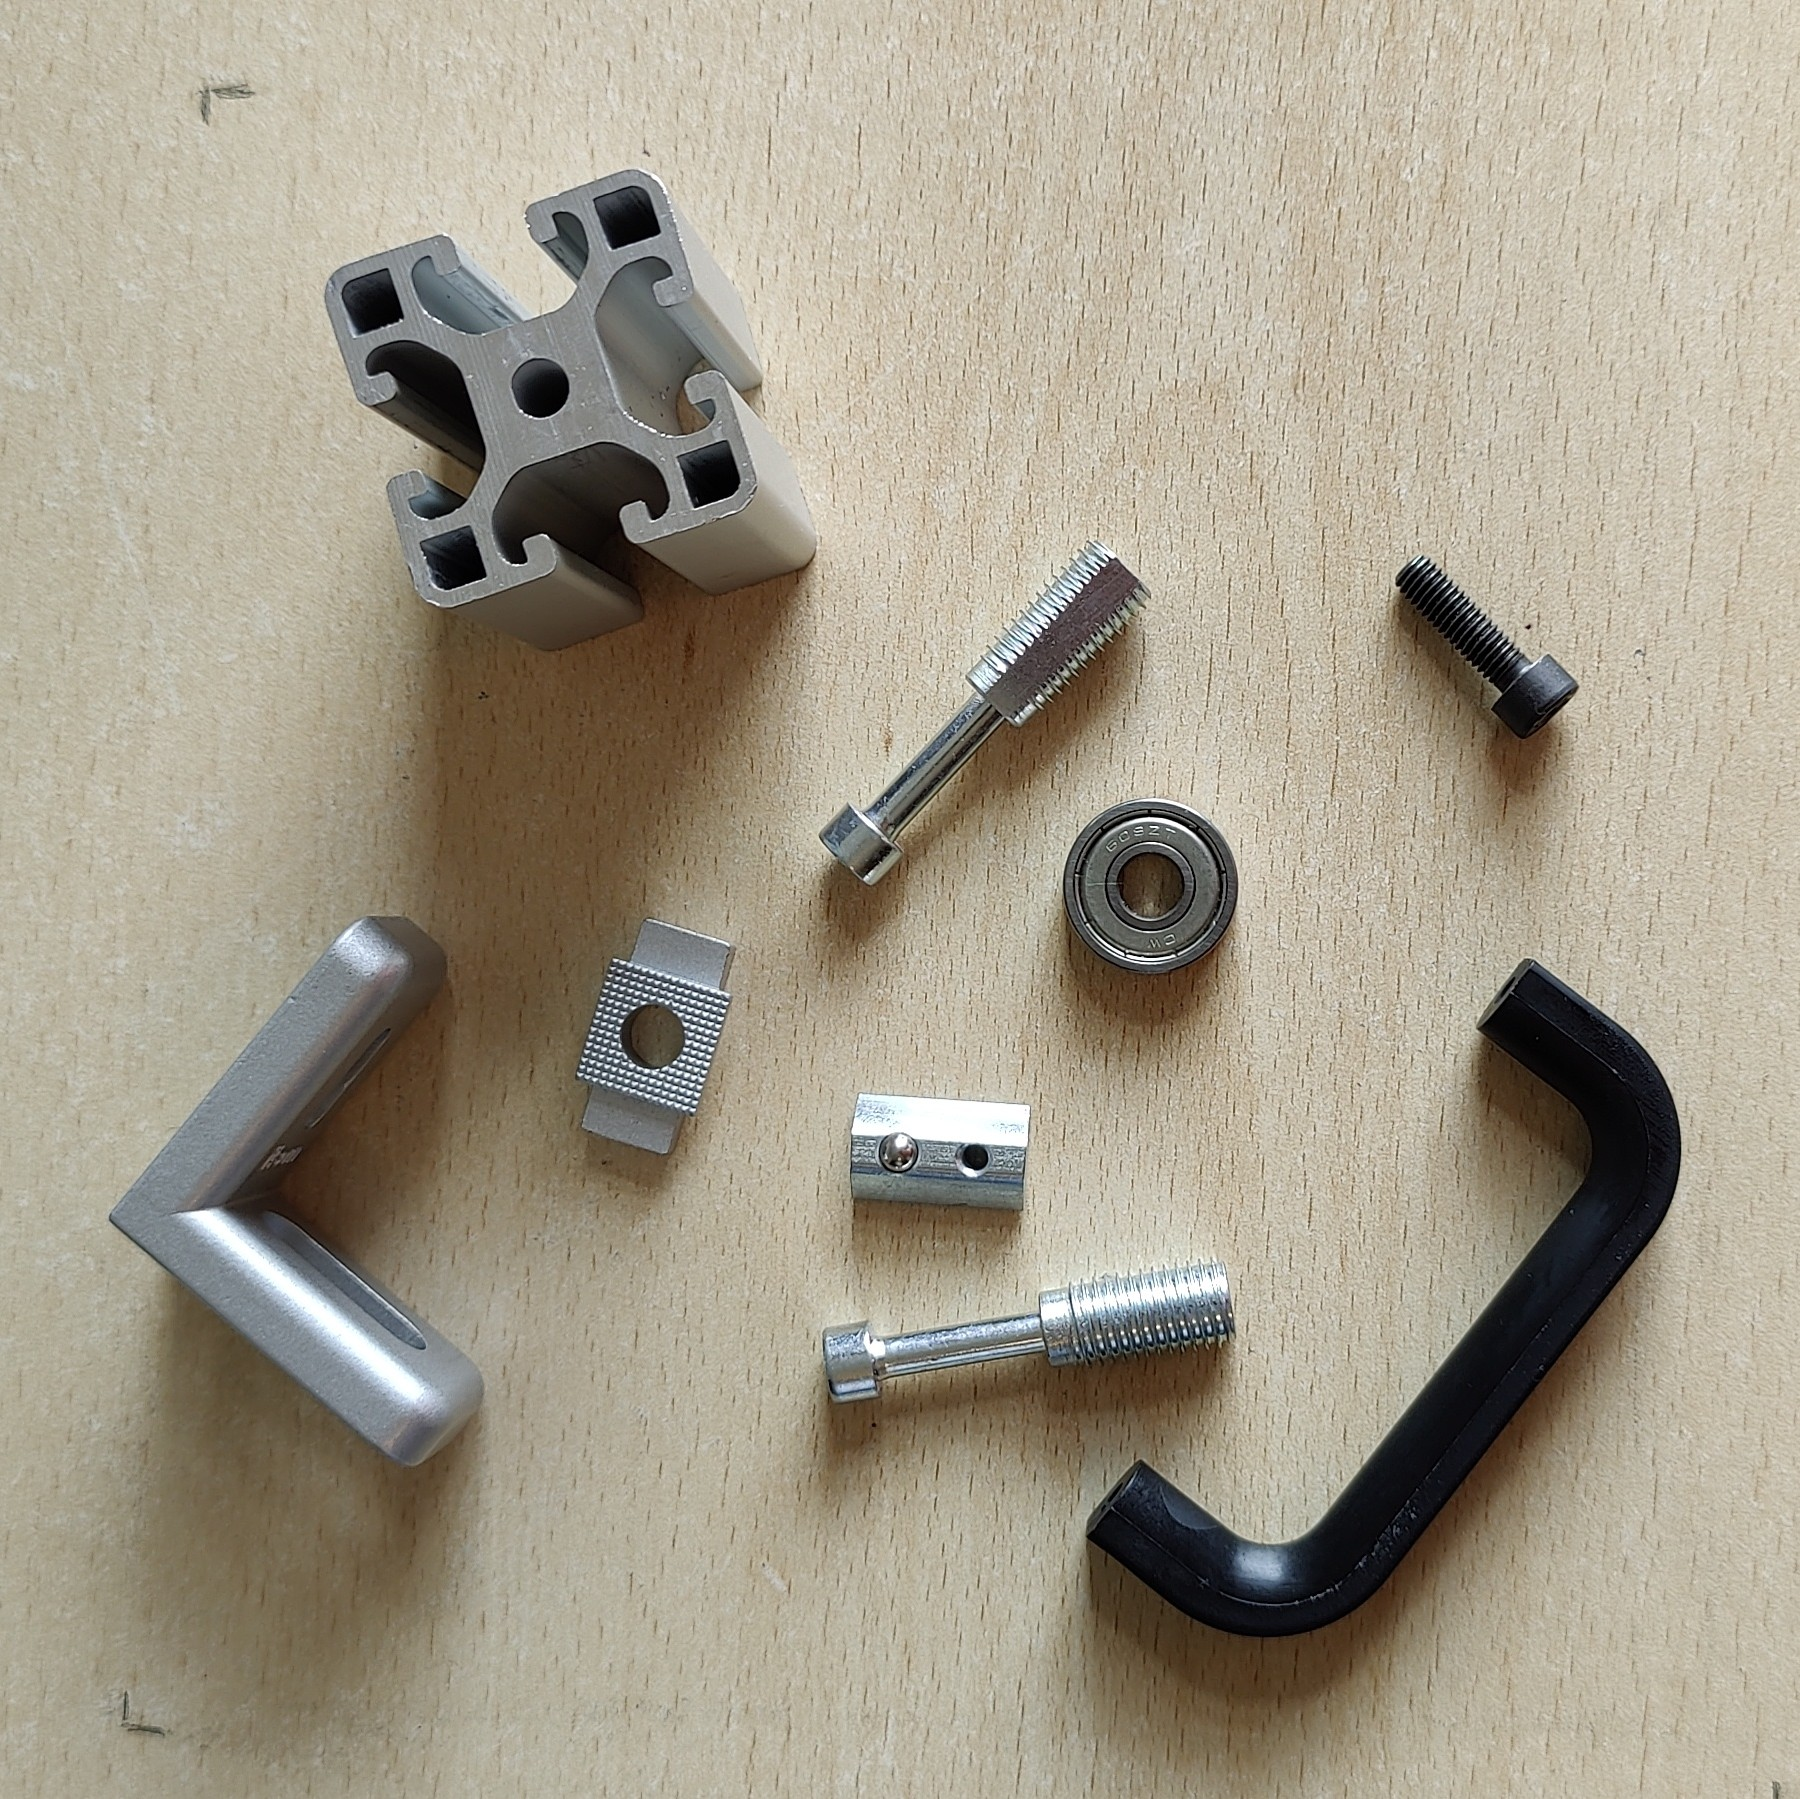Aluminium Extension: (319, 166, 818, 656)
Ball Bearing: (1062, 796, 1238, 979)
Multiwinkel: (105, 911, 487, 1471)
Pull Handle: (1080, 952, 1685, 1639)
Shoulder Socket Head Cap Screw: (818, 539, 1154, 893), (820, 1260, 1243, 1410)
Socket Head Cap Screw: (1392, 550, 1579, 745)
T Nut Square: (571, 913, 738, 1158)
T Spring Nut: (845, 1091, 1034, 1216)
